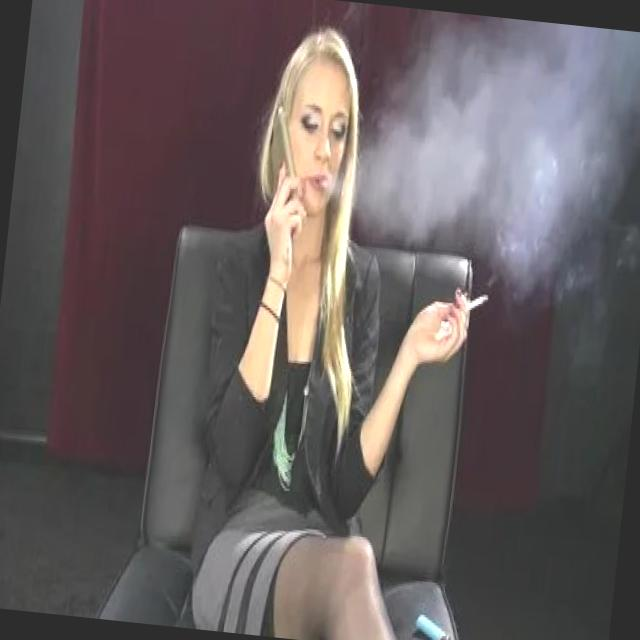cigarette: (460, 287, 492, 321)
